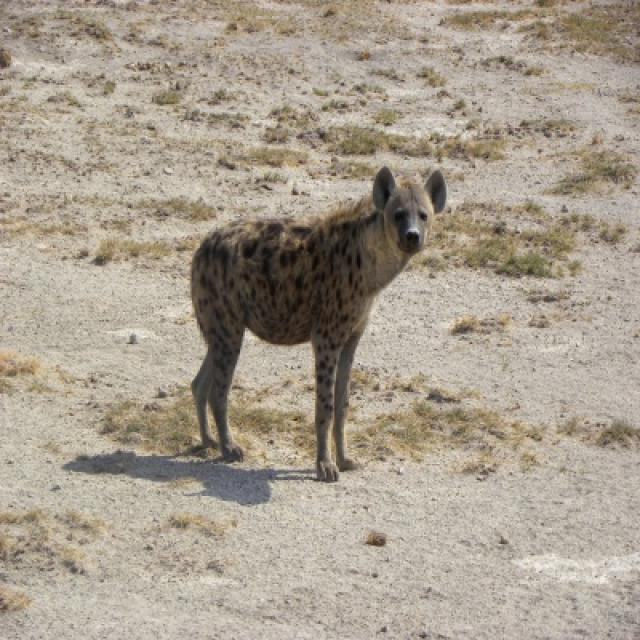hyena: (189, 168, 448, 485)
